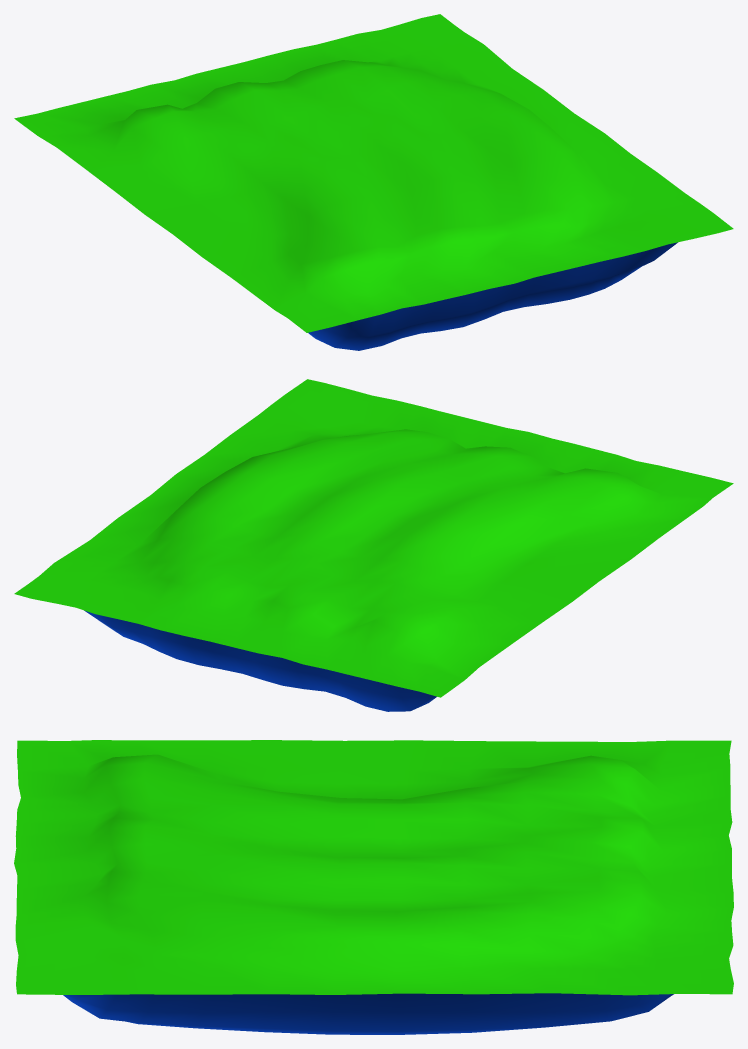
File: Sausage.fbx
The picture shows the model from 3 angles, top to bottom: view 1: azimuth 30°, elevation 25°; view 2: azimuth 150°, elevation 25°; view 3: azimuth 270°, elevation 25°; orthographic projection. The views are drawn at different scales.
Visible parts, largest first — view 1: Sausage; view 2: Sausage; view 3: Sausage.
Part boxes in pixels (x1,y1,x2,y2): Sausage: (14,14,733,350); Sausage: (14,379,733,711); Sausage: (14,740,733,1034).
Size of the model in its own units: 696 by 147 by 830.
